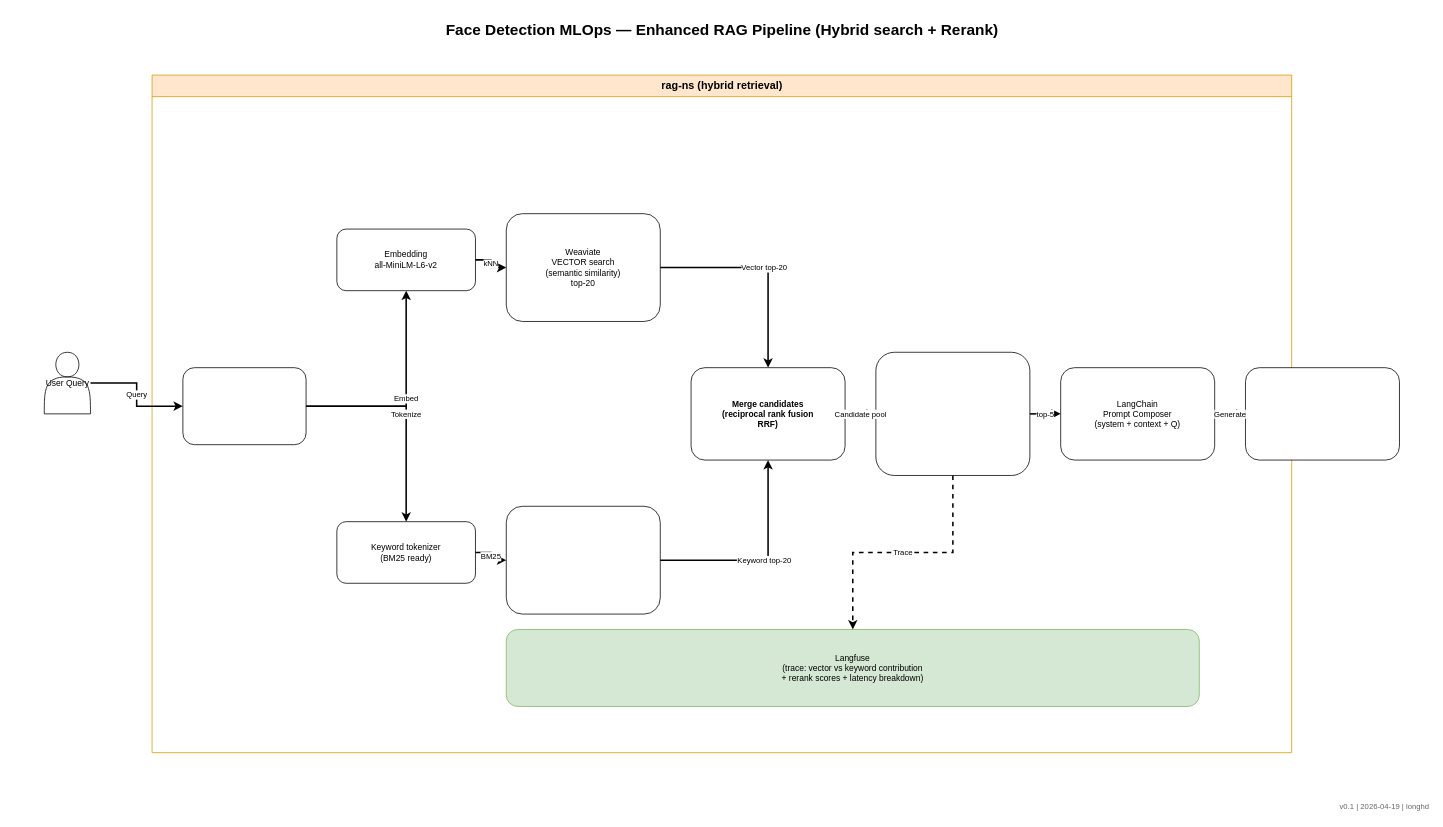
This 1443x827 diagram has some shape labels left out. Each missing label, with the centre of its shape:
Cross-encoder Reranker (cohere-rerank or bge-reranker) → top-5 final: the point at 952,413
FastAPI /ask endpoint: the point at 244,406
Ollama TinyLlama 1.1B (or larger on GPU): the point at 1322,413
Typesense KEYWORD search (BM25 exact match) top-20: the point at 583,560
